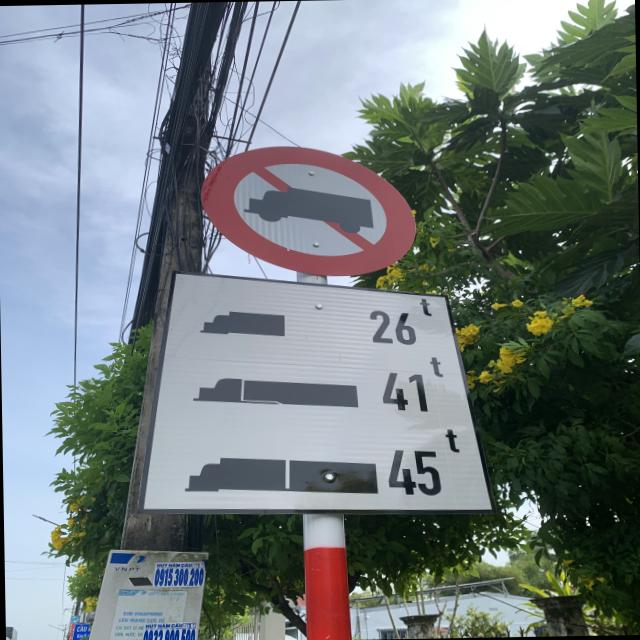Cam_Xe_Tai: (196, 140, 418, 276)
